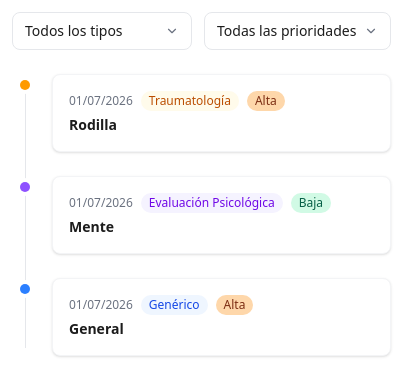
Test case: SeguimientosTimeline › filtros › el filtro de tipo Genérico incluye los seguimientos con tipo null
Step 1. Click the button with id "filtro-tipo-seguimiento" → (102, 31), box [12, 12, 192, 50]
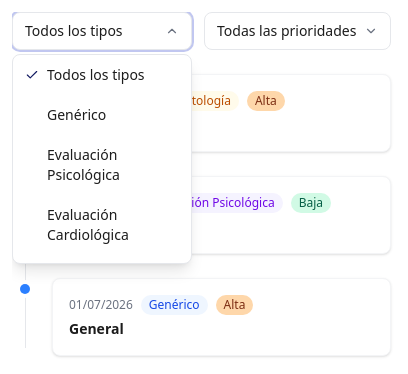
Step 2. Click the button "Genérico" → (102, 115), box [13, 95, 191, 135]
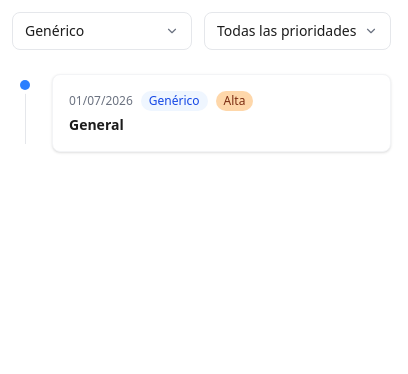
Check: the text "General" is shown, box [69, 115, 124, 134]
Check: the link "Rodilla" is gone
Check: the link "Mente" is gone
